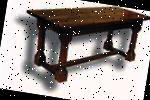Mesa: (16, 0, 149, 95)
